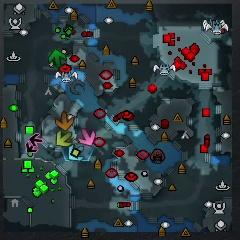x1: (79, 128, 96, 146)
x1Clone: (29, 133, 43, 146), (26, 141, 38, 153)
x2: (56, 131, 72, 146)
x3: (68, 145, 84, 160)
x4: (48, 49, 66, 67)
x5: (55, 111, 74, 131)
